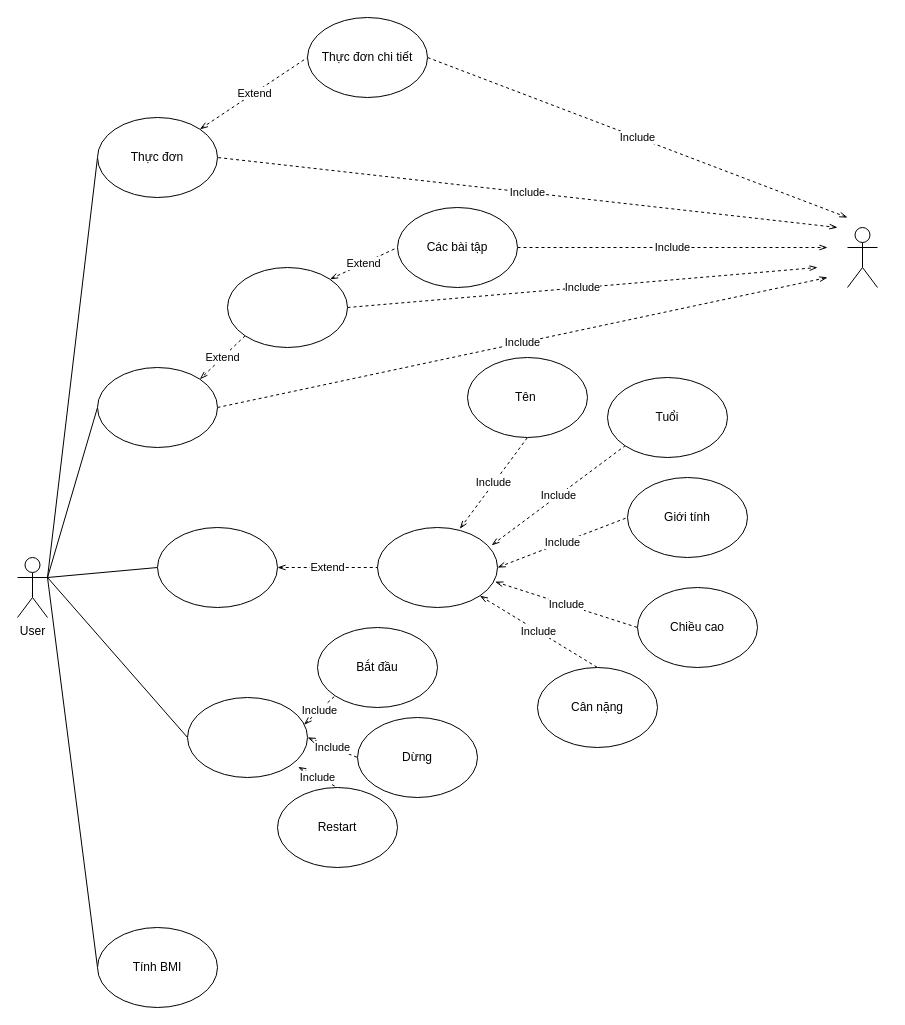
This 905x1025 diagram has some shape labels left out. The centre of each missing label's shape, as x and y in pixels:
"Bài tập" goes at (x=157, y=407).
"Cổng thông tin" goes at (x=437, y=567).
"Database" goes at (x=862, y=257).
"Nhóm cơ" goes at (x=287, y=307).
"Thông tin" goes at (x=217, y=567).
"Timer" goes at (x=247, y=737).
